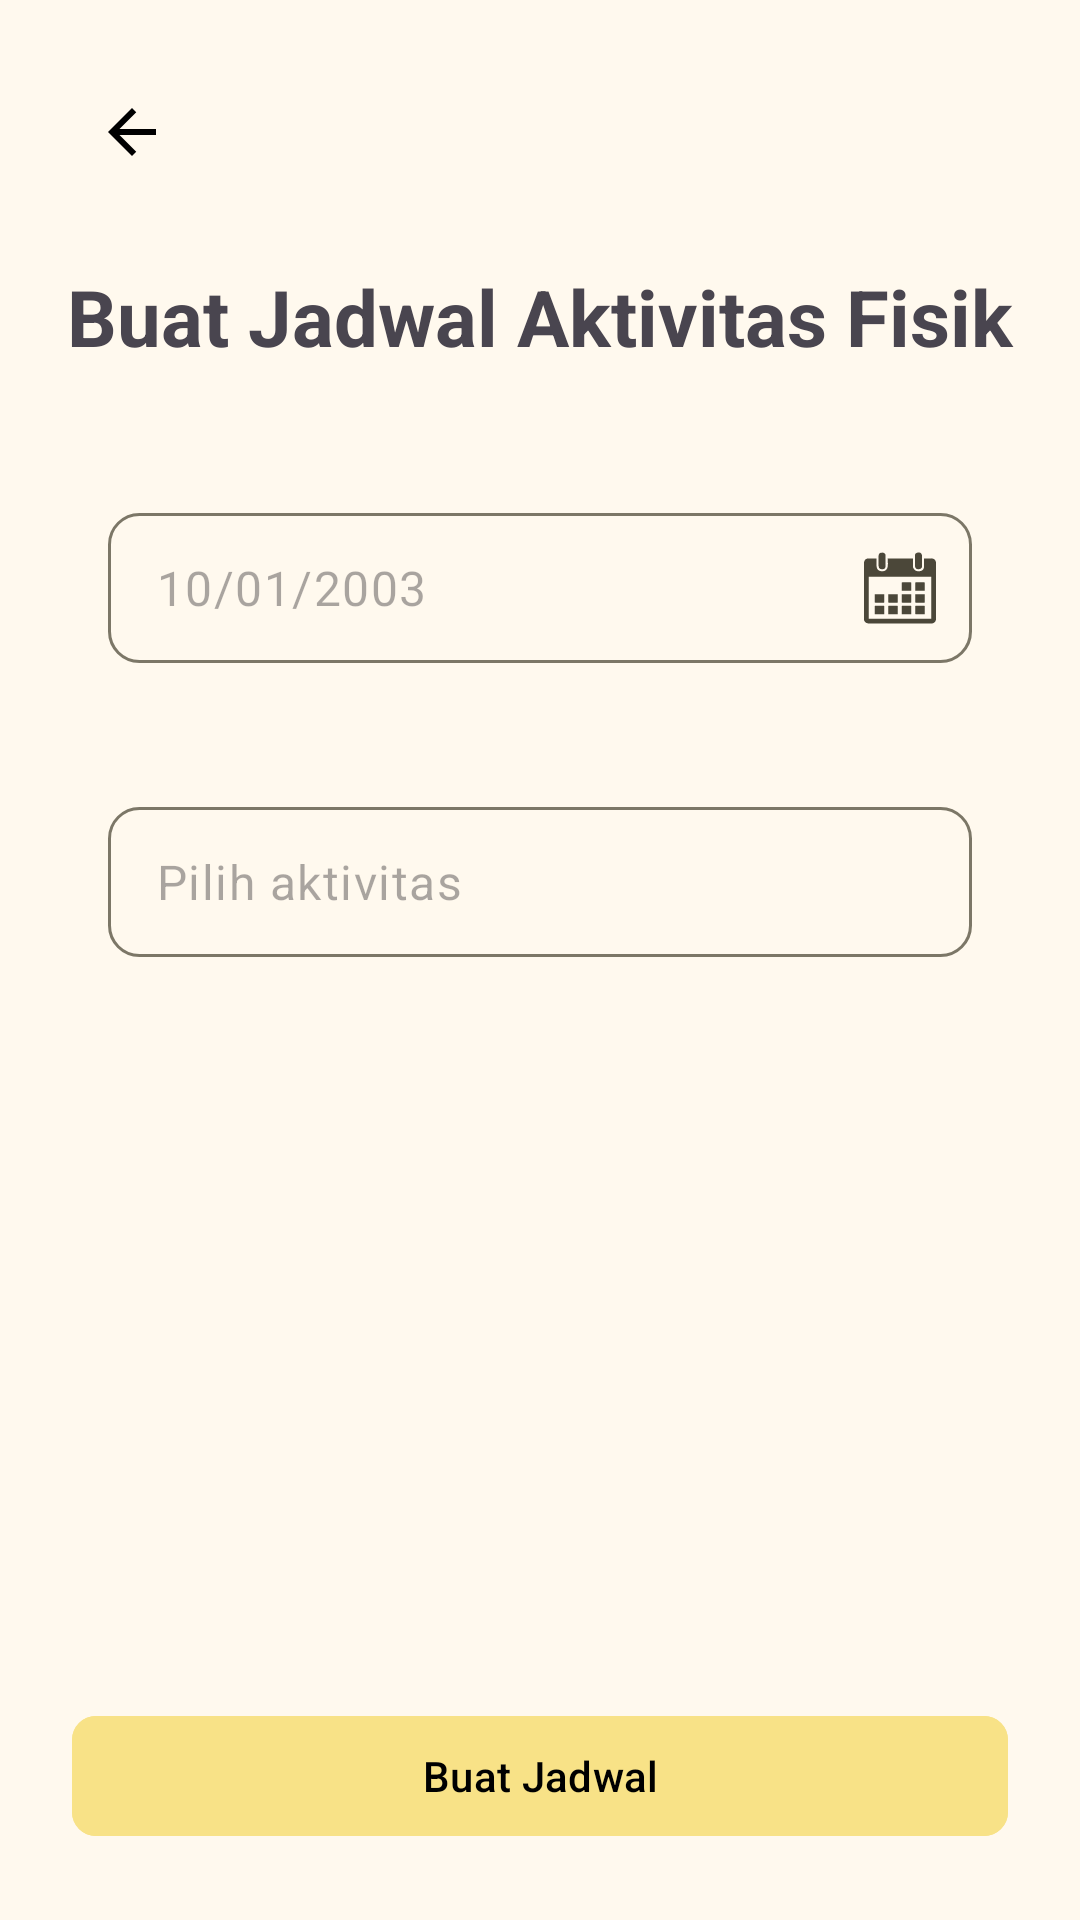

Locate icon controls on the screen. Image size 1080 × 1920, boxes as (x1, y1, x2, y2).
arrow back: (108, 108, 156, 156)
